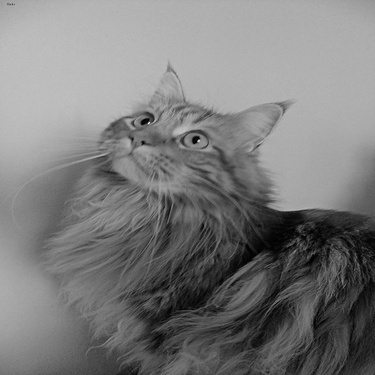cat: (40, 56, 368, 367)
